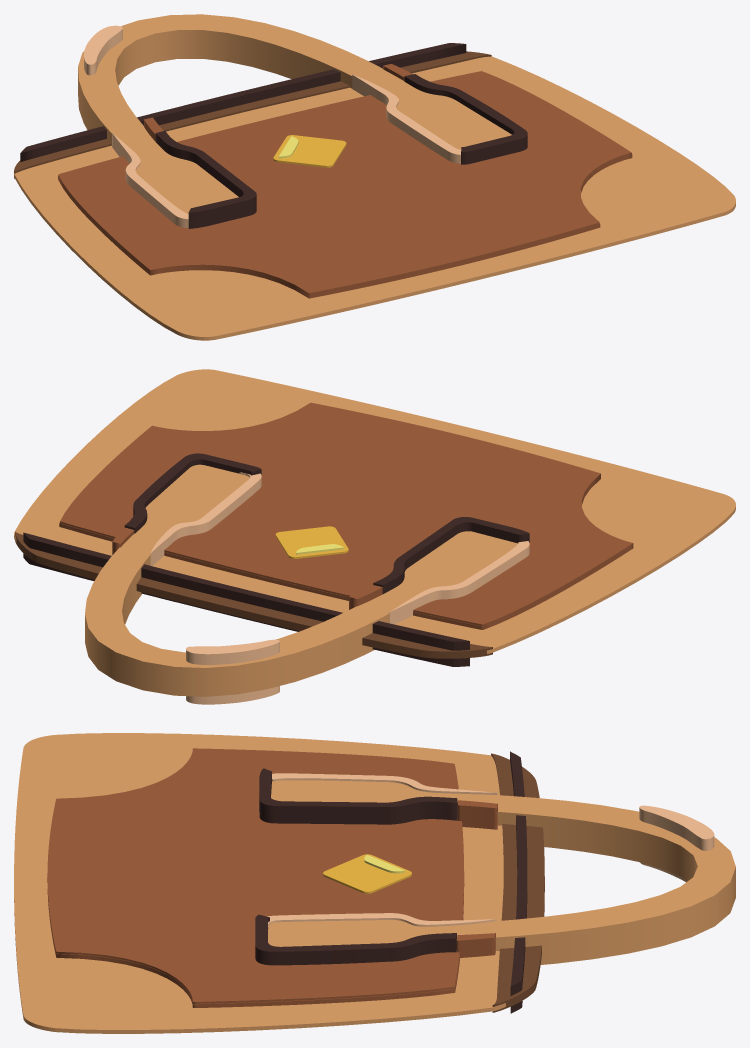
The model's file is emoji_u1f45c.glb.
The picture shows the model from 3 angles, top to bottom: view 1: azimuth 30°, elevation 25°; view 2: azimuth 150°, elevation 25°; view 3: azimuth 270°, elevation 25°; orthographic projection. The views are drawn at different scales.
Visible parts, largest first — view 1: emoji_u1f45c; view 2: emoji_u1f45c; view 3: emoji_u1f45c.
Boxes of the visible parts, x1,y1,x2,y2 form: emoji_u1f45c: [14, 14, 735, 340]; emoji_u1f45c: [14, 369, 735, 704]; emoji_u1f45c: [14, 733, 735, 1033].
Size of the model in its own units: 0.0327 by 0.0028 by 0.0336.
